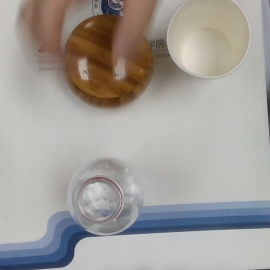bottle: (63, 15, 153, 110), (64, 157, 143, 233)
cup: (166, 1, 252, 80)
